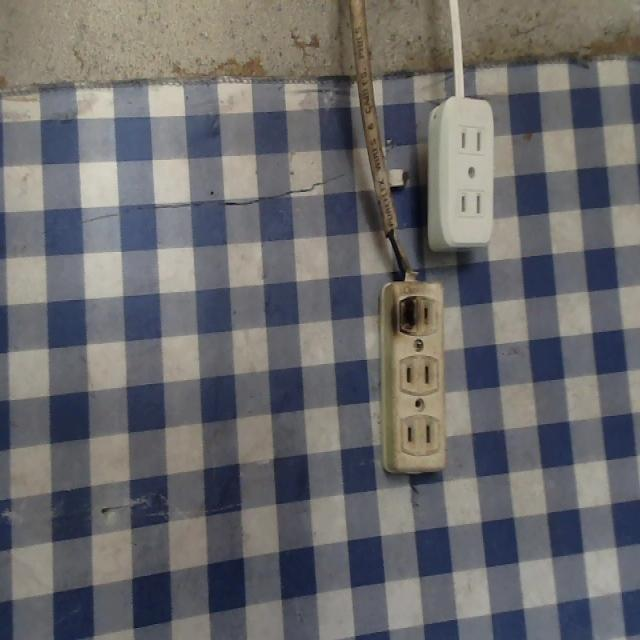-: (390, 283, 420, 340)
